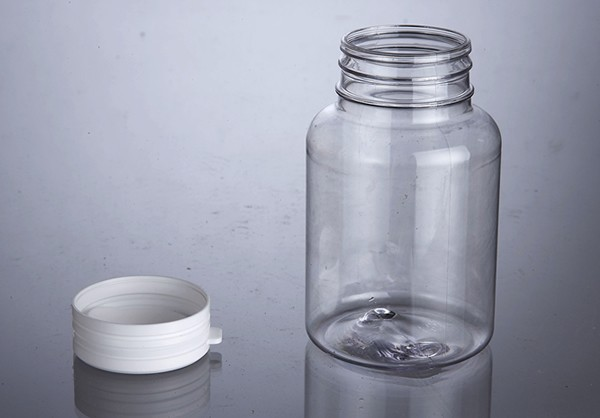medicinejar: (300, 15, 505, 375)
